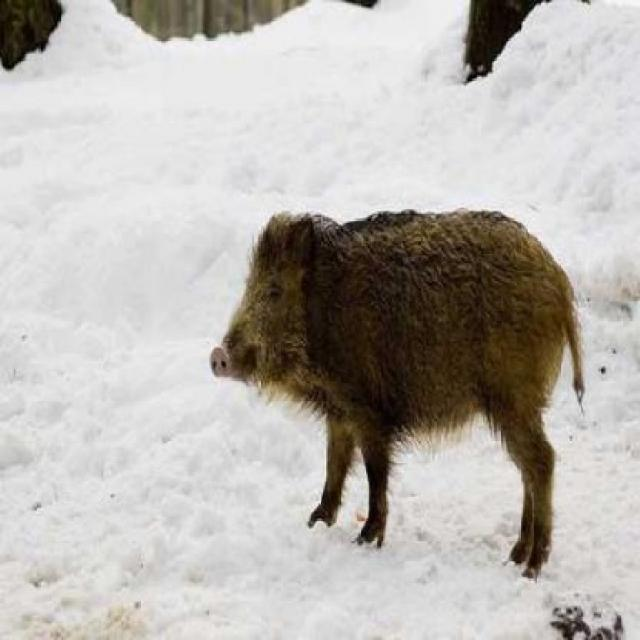pig: (176, 193, 612, 562)
